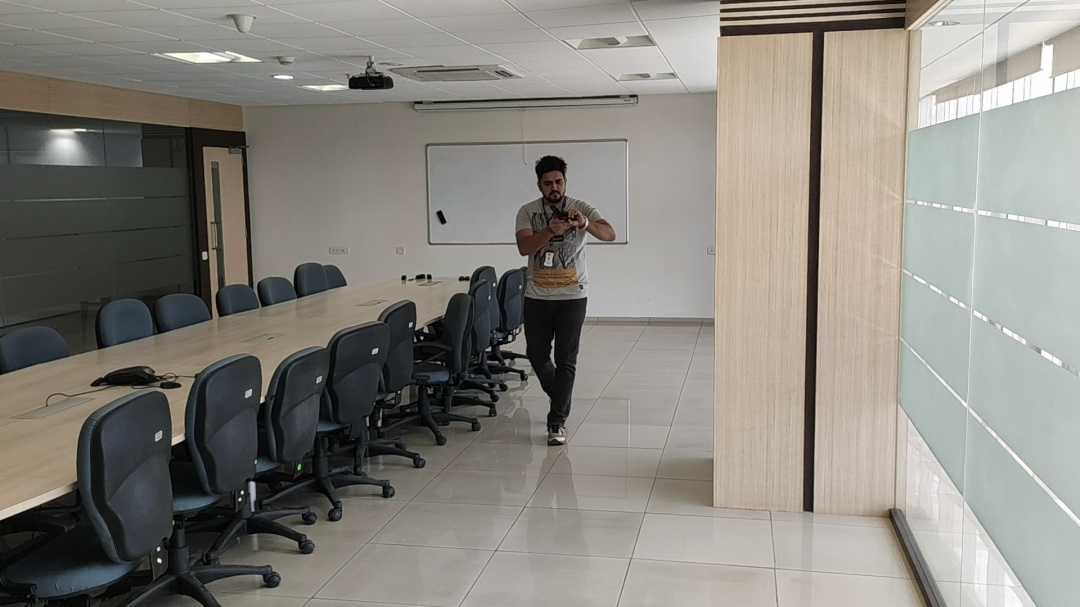gun: (550, 205, 567, 219)
